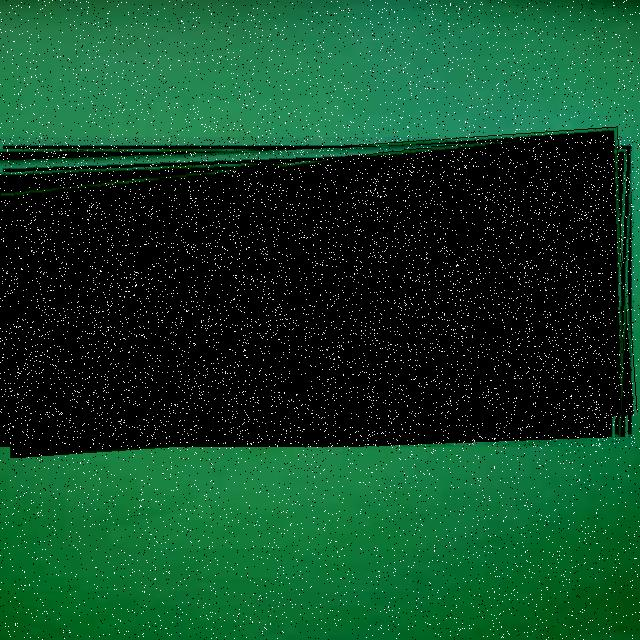lima puluh ribu rupiah: (0, 137, 634, 447)
